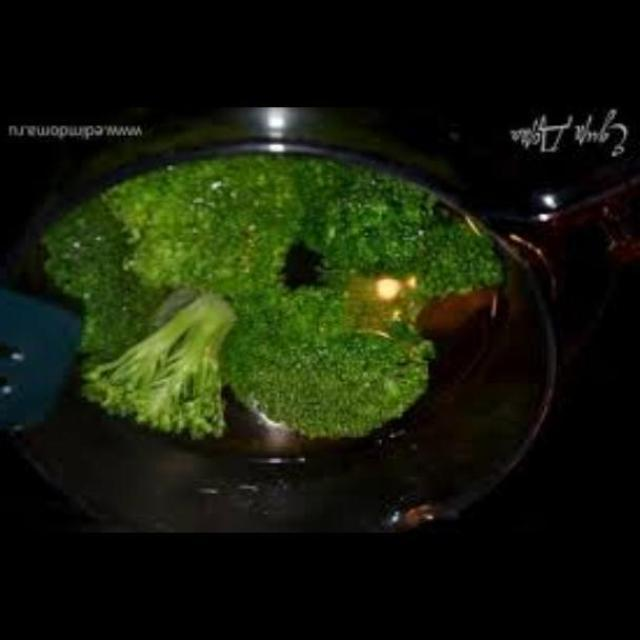Broccoli: (52, 162, 504, 450)
